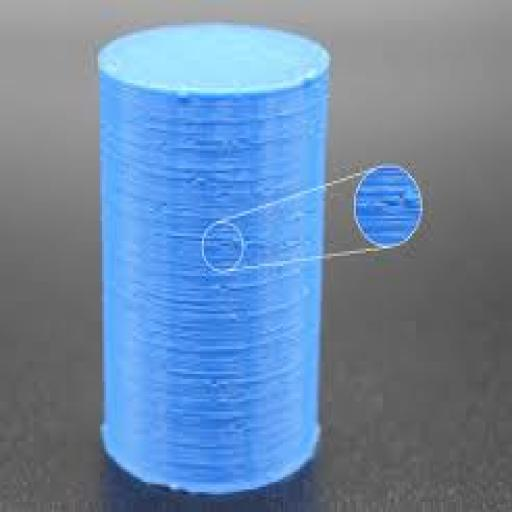blobs: (147, 335, 246, 383), (183, 143, 243, 205), (297, 63, 329, 100), (165, 88, 205, 108)
